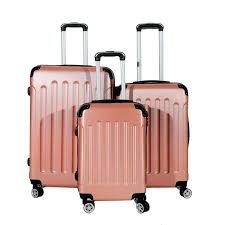suitcase: (26, 22, 117, 199), (110, 19, 194, 201), (73, 50, 151, 212)
